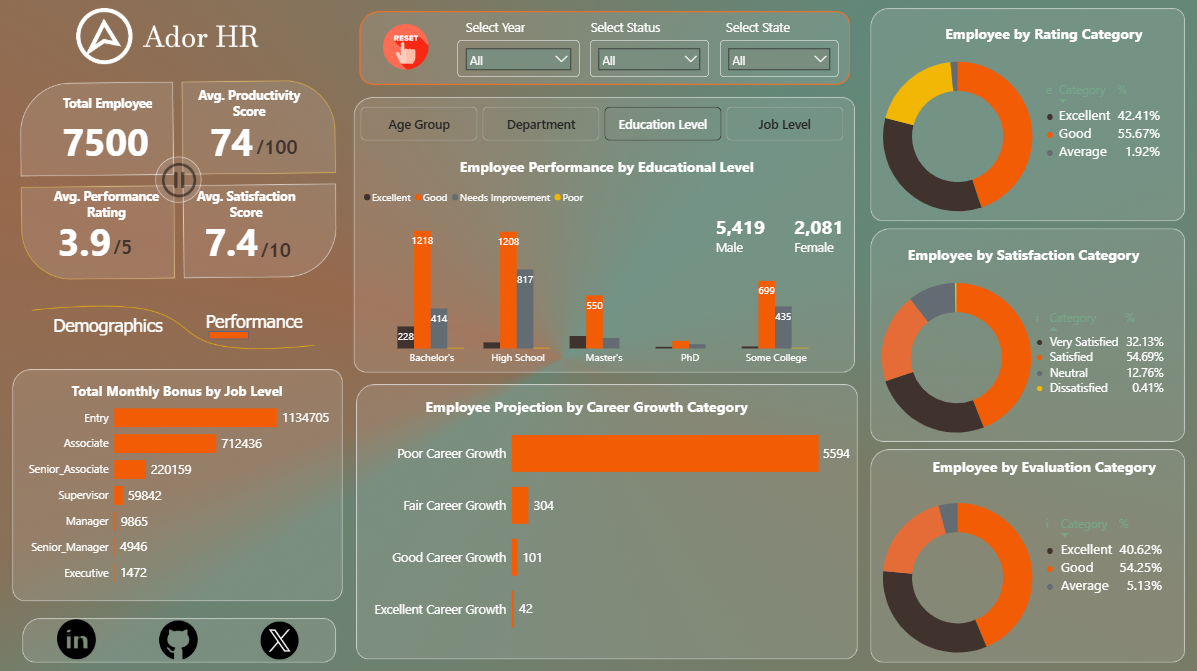

The dashboard page shown, as its layout file describes it:
{"tool":"powerbi","page":{"name":"Performance","canvas":[1920,1080],"ordinal":1},"visuals":[{"type":"shape","box":[74.1,487.7,197.6,63.8],"z":0},{"type":"shape","box":[308.7,481.6,197.6,63.8],"z":1000},{"type":"shape","box":[333.1,530.1,64.4,12.9],"z":2000},{"type":"card","fields":{"Values":["_Measures.Total Employees"]},"box":[70,177,197.6,92.6],"z":3000},{"type":"shape","box":[61.7,131.7,220.2,63.8],"z":4000},{"type":"card","fields":{"Values":["_Measures.Avg Performance Rating"]},"box":[79.3,338.4,110.2,90.9],"z":5000},{"type":"card","fields":{"Values":["_Measures.Avg Satisfaction Score"]},"box":[313.3,338.4,112.2,90.9],"z":6000},{"type":"card","fields":{"Values":["_Measures.Avg Productivity Score"]},"box":[321,177.9,96.7,90.9],"z":7000},{"type":"shape","box":[306.7,131.7,185.2,63.8],"z":8000},{"type":"shape","box":[60.2,293.2,220.2,63.8],"z":9000},{"type":"shape","box":[294,294,199.2,63.8],"z":10000},{"type":"donutChart","fields":{"Y":["_Measures.Total Employees"],"Category":["dim_monthly_performance.Rating Category"]},"box":[1284.7,64.4,496.9,309.2],"z":11000},{"type":"tableEx","fields":{"Values":["_Measures.Icon","dim_monthly_performance.Rating Category","Divide(_Measures.Total Employees, ScopedEval(_Measures.Total Employees, []))"]},"box":[1662,127,257.7,213.5],"z":12000},{"type":"shape","box":[1487.1,20.2,364.4,64.4],"z":13000},{"type":"donutChart","fields":{"Y":["_Measures.Total Employees"],"Category":["dim_monthly_performance.Satisfaction Category"]},"box":[1282.8,417.8,496.9,309.2],"z":16000},{"type":"tableEx","fields":{"Values":["_Measures.Icon","dim_monthly_performance.Satisfaction Category","Divide(_Measures.Total Employees, ScopedEval(_Measures.Total Employees, []))"]},"box":[1645.4,489.6,250.3,213.5],"z":17000},{"type":"shape","box":[1423.4,373.2,427.4,63.8],"z":18000},{"type":"donutChart","fields":{"Y":["_Measures.Total Employees"],"Category":["dim_monthly_performance.Evaluation Category"]},"box":[1284,770.9,496.9,309.2],"z":21000},{"type":"shape","box":[1487.2,713.6,365.5,63.8],"z":22000},{"type":"tableEx","fields":{"Values":["_Measures.Icon","dim_monthly_performance.Evaluation Category","Divide(_Measures.Total Employees, ScopedEval(_Measures.Total Employees, []))"]},"box":[1662,819,257.7,213.5],"z":23000},{"type":"advancedSlicerVisual","fields":{"Values":["Demographics.Demographics"]},"box":[572.4,165.6,785.9,64.4],"z":24000},{"type":"clusteredColumnChart","fields":{"Category":["employees.Education_Level"],"Y":["_Measures.Total Employees"],"Series":["dim_monthly_performance.Overall _Performance_Category"]},"box":[576.3,294,781.3,299.8],"z":25000},{"type":"shape","box":[701.2,237.4,537.4,55.2],"z":26000},{"type":"multiRowCard","fields":{"Values":["_Measures.Male","_Measures.Female"]},"box":[1139.3,336.8,261.4,84.7],"z":27000},{"type":"clusteredBarChart","fields":{"Category":["dim_monthly_performance.Career_Growth_Category"],"Y":["_Measures.Total Employees"]},"box":[577.3,649.5,786.8,395.7],"z":29000},{"type":"shape","box":[670.4,621.5,537.7,55.9],"z":30000},{"type":"slicer","fields":{"Values":["Dates.Year"]},"box":[732.5,64.4,195,58.9],"z":33000},{"type":"shape","box":[732.5,20.2,121.5,44.2],"z":34000},{"type":"slicer","fields":{"Values":["employees.Status"]},"box":[944.8,64.4,190,58.9],"z":35000},{"type":"slicer","fields":{"Values":["employees.State"]},"box":[1152.2,64.4,189.6,58.9],"z":36000},{"type":"shape","box":[940.5,20.2,121.5,44.2],"z":37000},{"type":"shape","box":[1152.2,20.2,121.5,44.2],"z":38000},{"type":"image","box":[607.4,16.6,82.8,117.8],"z":39000},{"type":"shape","box":[400.3,203.1,87,63.8],"z":39001},{"type":"shape","box":[398.4,367.4,87,63.8],"z":39002},{"type":"shape","box":[160.5,363.6,73.5,63.8],"z":39003},{"type":"clusteredBarChart","fields":{"Category":["employees.Job_Level"],"Y":["Sum(dim_monthly_performance.Monthly_Bonus)"]},"box":[32.6,623.9,502.8,330.6],"z":39004},{"type":"shape","box":[32.6,595.9,502.8,55.9],"z":39005},{"type":"image","box":[241.1,988.3,86.5,71.8],"z":39006},{"type":"image","box":[80,990,86,72],"z":39007},{"type":"image","box":[403.1,990.2,86.5,69.9],"z":39008}]}

Visuals, with their boxes in screenshot pixels (x1, y1, x2, y2), scaled from the page's 1920x1080 canvas onto the 1197x671 screenshot:
shape: <region>46, 303, 169, 343</region>
shape: <region>192, 299, 316, 339</region>
shape: <region>208, 329, 248, 337</region>
card - _Measures.Total Employees: <region>44, 110, 167, 168</region>
shape: <region>38, 82, 176, 121</region>
card - _Measures.Avg Performance Rating: <region>49, 210, 118, 267</region>
card - _Measures.Avg Satisfaction Score: <region>195, 210, 265, 267</region>
card - _Measures.Avg Productivity Score: <region>200, 111, 260, 167</region>
shape: <region>191, 82, 307, 121</region>
shape: <region>38, 182, 175, 222</region>
shape: <region>183, 183, 307, 222</region>
donutChart - _Measures.Total Employees x dim_monthly_performance.Rating Category: <region>801, 40, 1111, 232</region>
tableEx - _Measures.Icon x dim_monthly_performance.Rating Category: <region>1036, 79, 1196, 212</region>
shape: <region>927, 13, 1154, 53</region>
donutChart - _Measures.Total Employees x dim_monthly_performance.Satisfaction Category: <region>800, 260, 1110, 452</region>
tableEx - _Measures.Icon x dim_monthly_performance.Satisfaction Category: <region>1026, 304, 1182, 437</region>
shape: <region>887, 232, 1154, 272</region>
donutChart - _Measures.Total Employees x dim_monthly_performance.Evaluation Category: <region>800, 479, 1110, 670</region>
shape: <region>927, 443, 1155, 483</region>
tableEx - _Measures.Icon x dim_monthly_performance.Evaluation Category: <region>1036, 509, 1196, 641</region>
advancedSlicerVisual - Demographics.Demographics: <region>357, 103, 847, 143</region>
clusteredColumnChart - employees.Education_Level x _Measures.Total Employees: <region>359, 183, 846, 369</region>
shape: <region>437, 147, 772, 182</region>
multiRowCard - _Measures.Male x _Measures.Female: <region>710, 209, 873, 262</region>
clusteredBarChart - dim_monthly_performance.Career_Growth_Category x _Measures.Total Employees: <region>360, 404, 850, 649</region>
shape: <region>418, 386, 753, 421</region>
slicer - Dates.Year: <region>457, 40, 578, 77</region>
shape: <region>457, 13, 532, 40</region>
slicer - employees.Status: <region>589, 40, 707, 77</region>
slicer - employees.State: <region>718, 40, 837, 77</region>
shape: <region>586, 13, 662, 40</region>
shape: <region>718, 13, 794, 40</region>
image: <region>379, 10, 430, 84</region>
shape: <region>250, 126, 304, 166</region>
shape: <region>248, 228, 303, 268</region>
shape: <region>100, 226, 146, 266</region>
clusteredBarChart - employees.Job_Level x Sum(dim_monthly_performance.Monthly_Bonus): <region>20, 388, 334, 593</region>
shape: <region>20, 370, 334, 405</region>
image: <region>150, 614, 204, 659</region>
image: <region>50, 615, 103, 660</region>
image: <region>251, 615, 305, 659</region>
